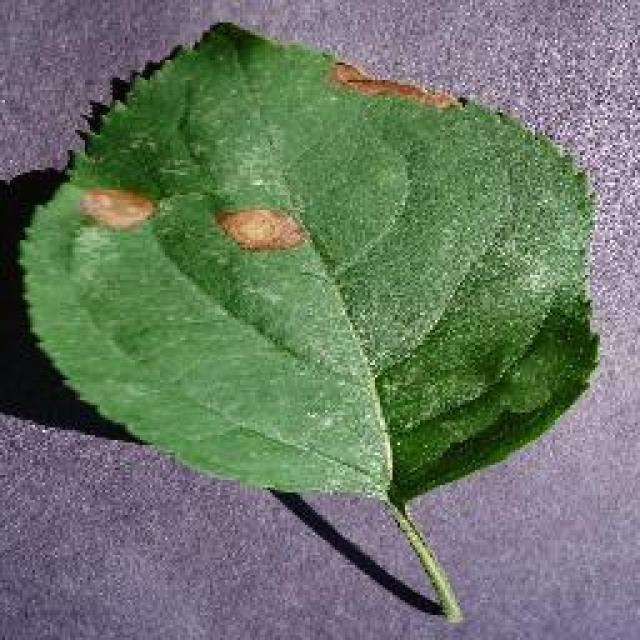Black_rot: (15, 18, 600, 622)
